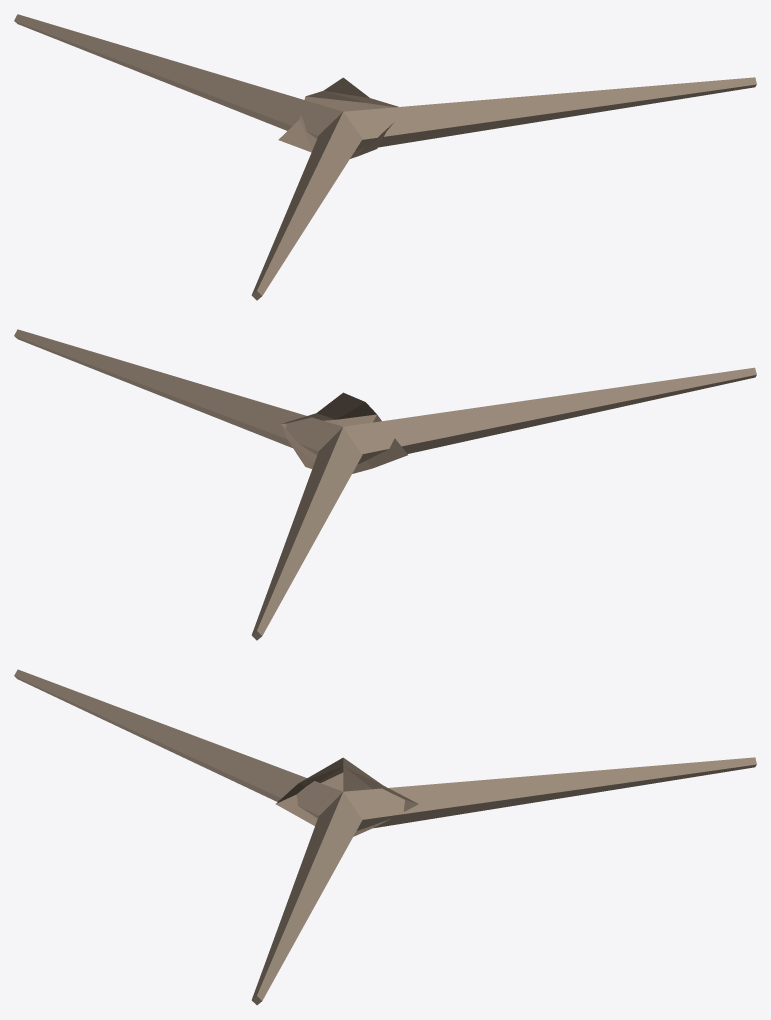
3 renders of one model, top to bottom at view 1: azimuth 30°, elevation 25°; view 2: azimuth 150°, elevation 25°; view 3: azimuth 270°, elevation 25°, orthographic.
Visible parts, largest first — view 1: lod0; view 2: lod0; view 3: lod0.
Part boxes in pixels (bbox=[...]): lod0: bbox=[14, 14, 756, 300]; lod0: bbox=[14, 329, 756, 640]; lod0: bbox=[14, 669, 756, 1005].
Size of what is drawn, in the model's own units: 1.57 by 0.2025 by 1.62.
